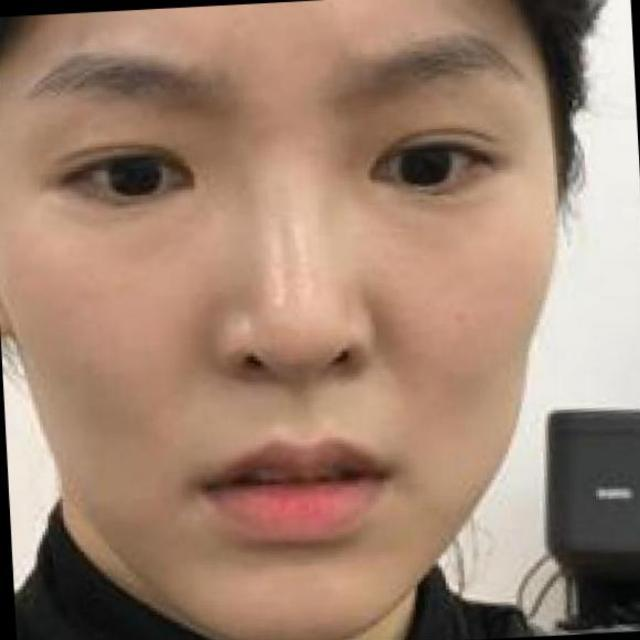natural: (40, 8, 540, 623)
